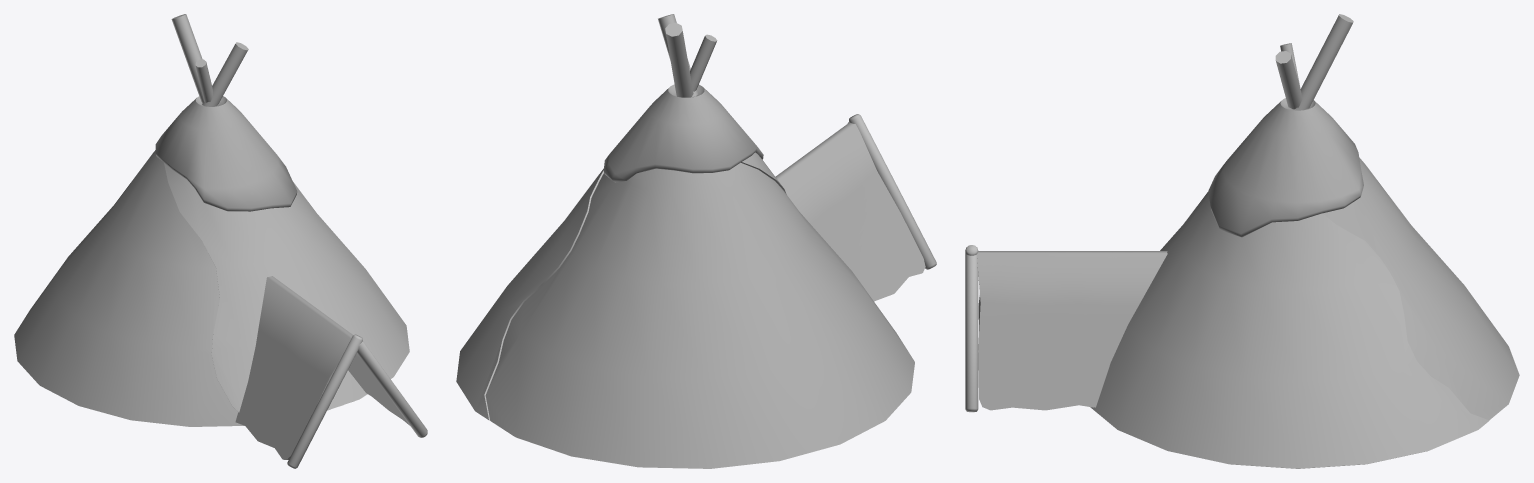
Rendered from House_lvl1.fbx.
3 renders of one model, left to right at view 1: azimuth 30°, elevation 25°; view 2: azimuth 150°, elevation 25°; view 3: azimuth 270°, elevation 25°, orthographic. The views are drawn at different scales.
Parts seen in each view (by area): view 1: Lvl1_House; view 2: Lvl1_House; view 3: Lvl1_House.
Part boxes in pixels (box(x1,y1,x2,y2)): Lvl1_House: box(14, 14, 427, 468); Lvl1_House: box(456, 14, 936, 468); Lvl1_House: box(965, 14, 1519, 468).
Bounding box in the file's own units: 6.04 × 5.35 × 7.53.
